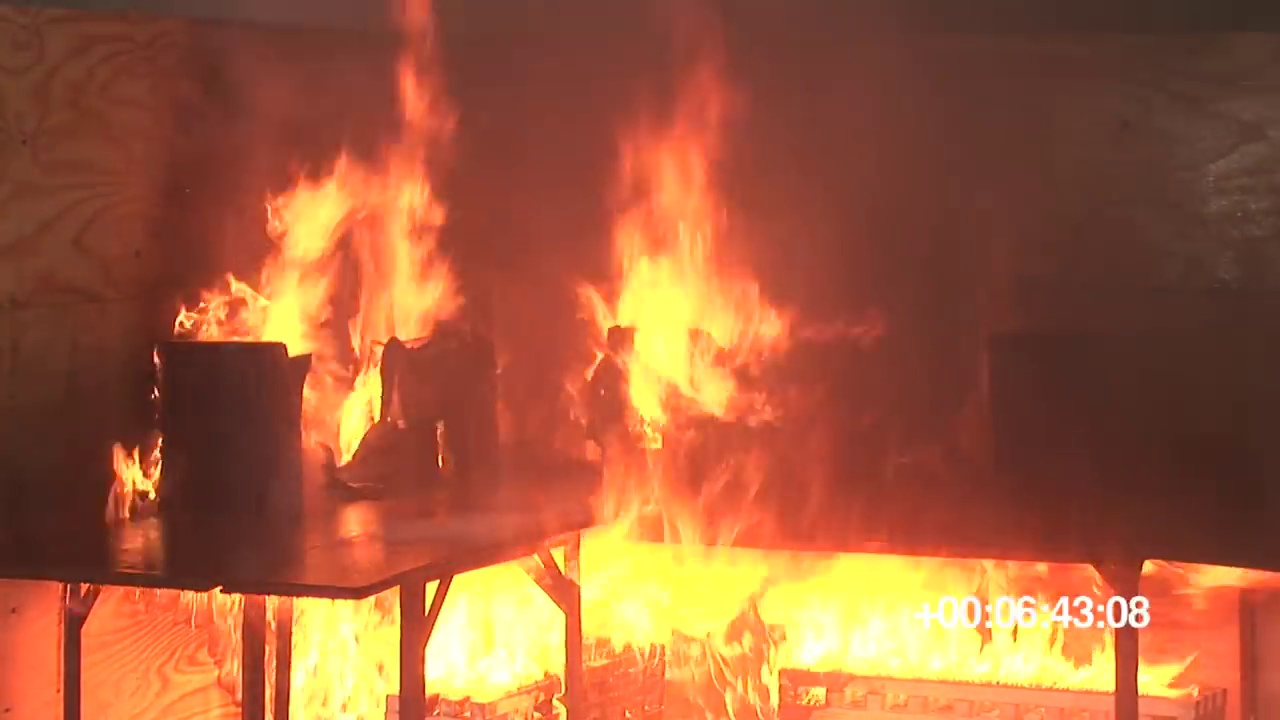fire: (183, 5, 464, 340), (477, 543, 1110, 684), (576, 84, 802, 412), (204, 589, 401, 720), (339, 366, 380, 455), (113, 438, 160, 504), (1137, 663, 1187, 700)
